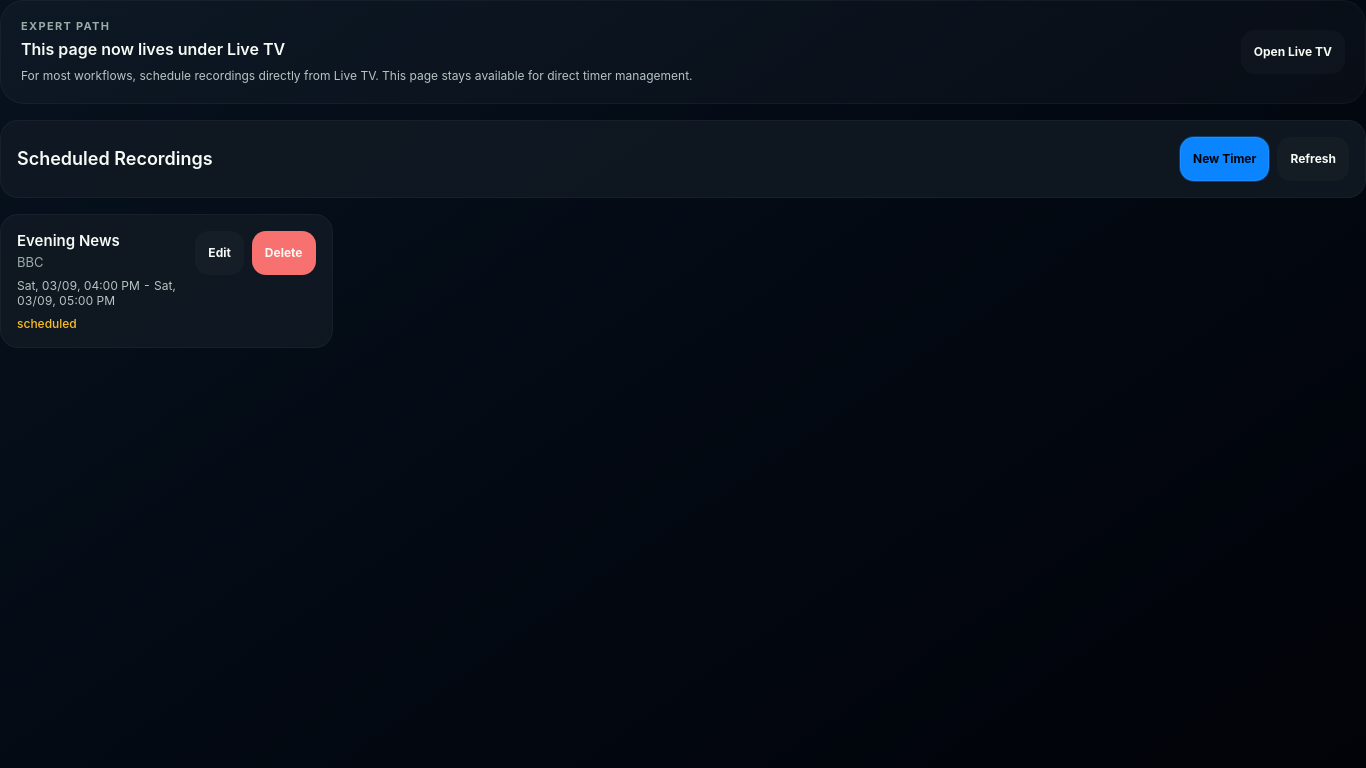
Test: Timers › deletes a timer and refreshes the timer list
The width and height of the screenshot is (1366, 768).
Expected: the text "Evening News" is shown, [17,231,120,250]
Click the button "Delete": (284, 253) [252,231,316,275]
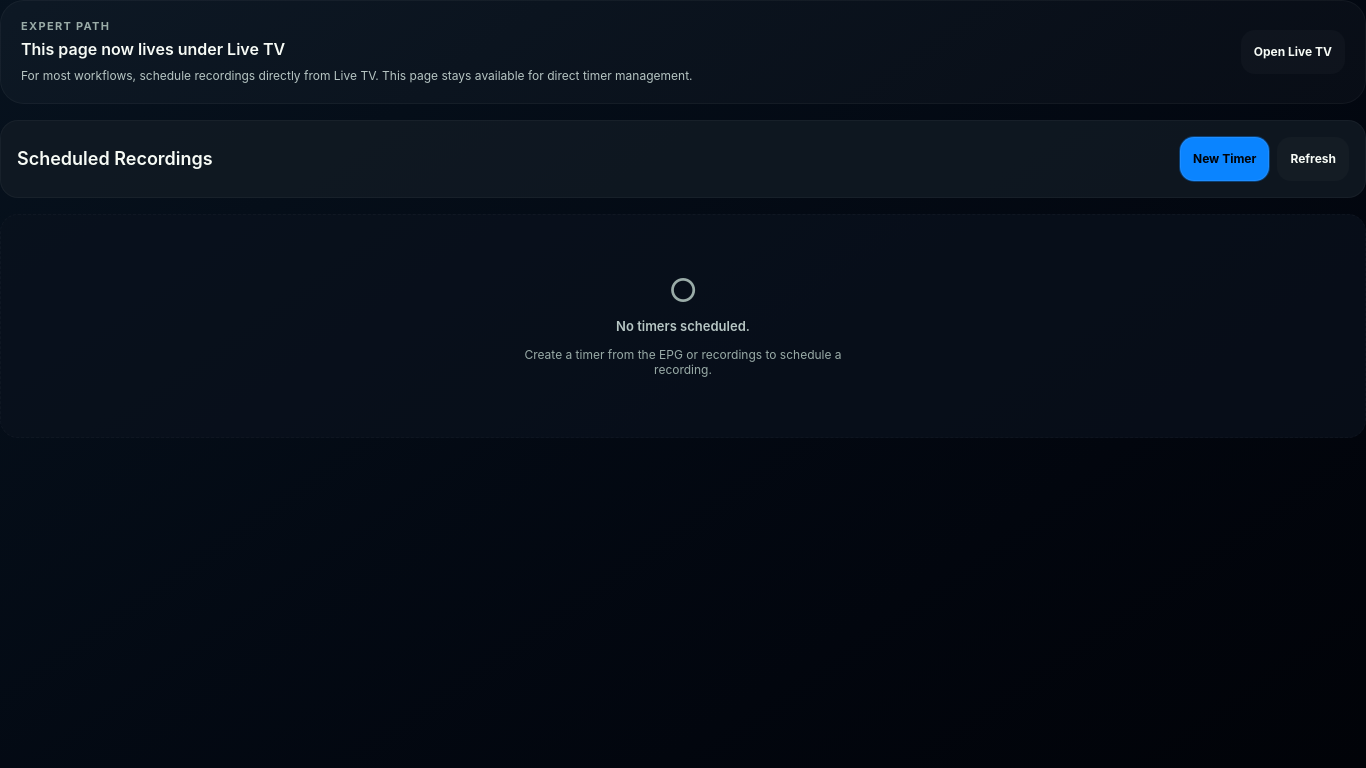
Result: the text "Evening News" is gone
